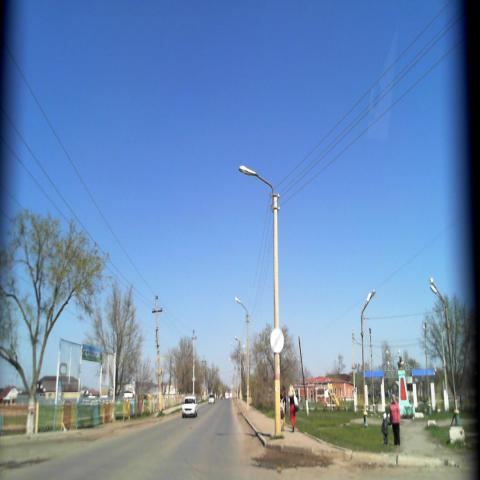3_31: (269, 328, 285, 356)
